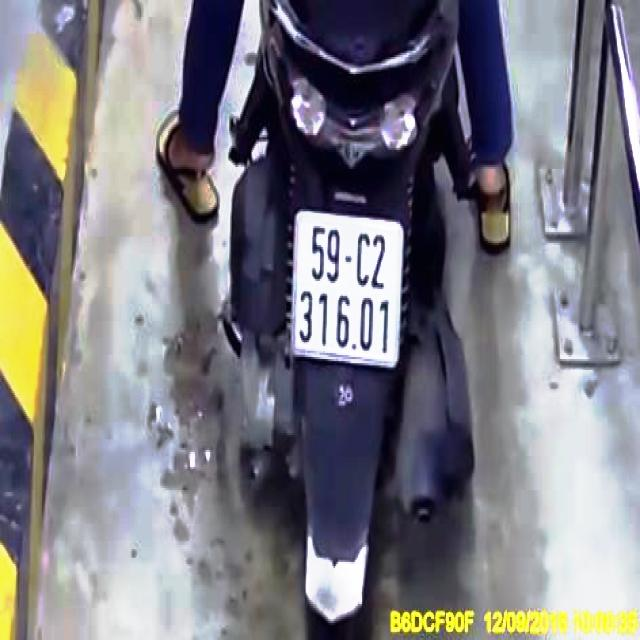license_plate: (294, 217, 403, 365)
